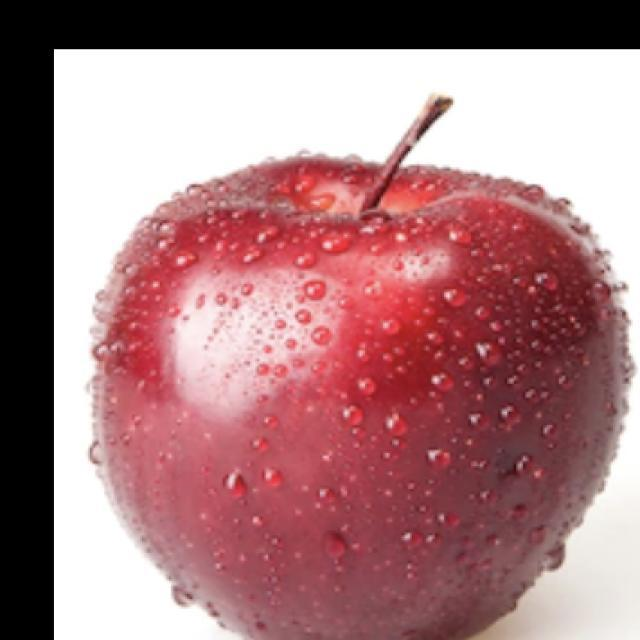Apple: (86, 93, 637, 639)
